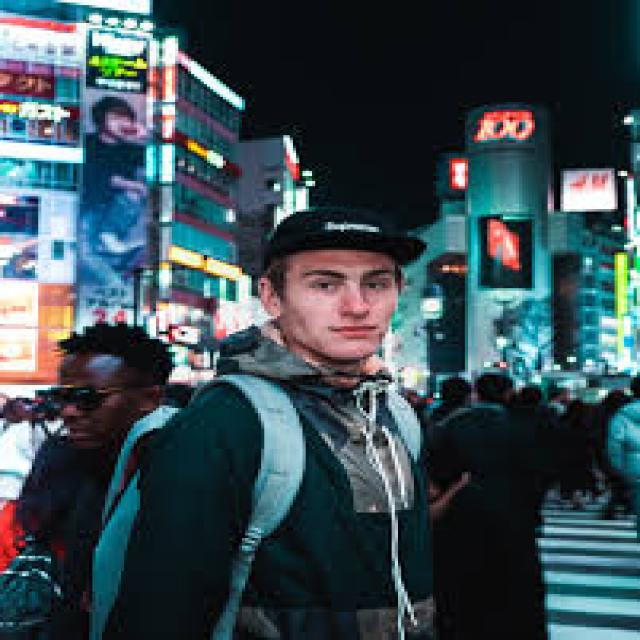cap: (261, 209, 427, 362)
head: (25, 329, 172, 451)
